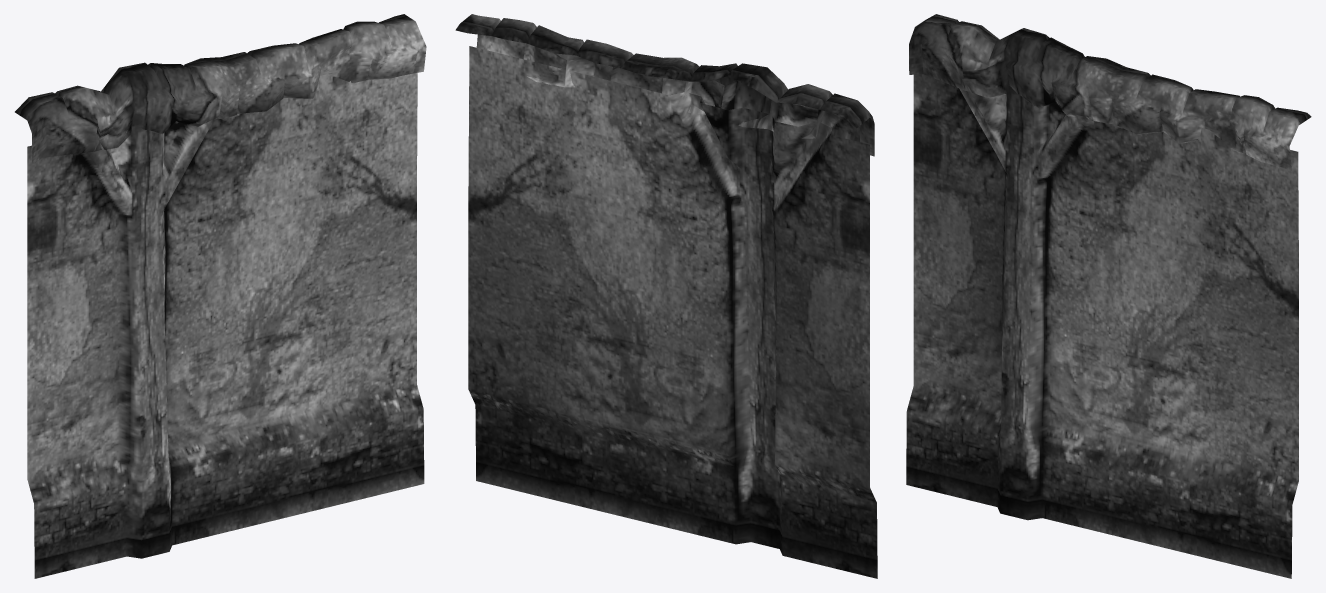
The model's file is StreetDeko_HouseWall_C.FBX.
3 views of the same model, side by side, from view 1: azimuth 30°, elevation 25°; view 2: azimuth 150°, elevation 25°; view 3: azimuth 330°, elevation 25° (orthographic). The views are drawn at different scales.
Parts seen in each view (by area): view 1: Street_HouseWall_C; view 2: Street_HouseWall_C; view 3: Street_HouseWall_C.
Boxes of the visible parts, bbox=[...] form: Street_HouseWall_C: bbox=[15, 14, 426, 578]; Street_HouseWall_C: bbox=[455, 14, 877, 578]; Street_HouseWall_C: bbox=[906, 14, 1311, 578].
Size of the model in its own units: 400 by 467 by 47.96.
